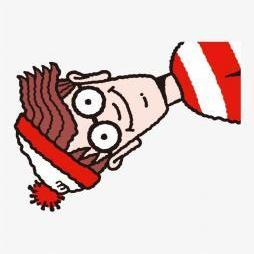waldos: (10, 33, 247, 218)
